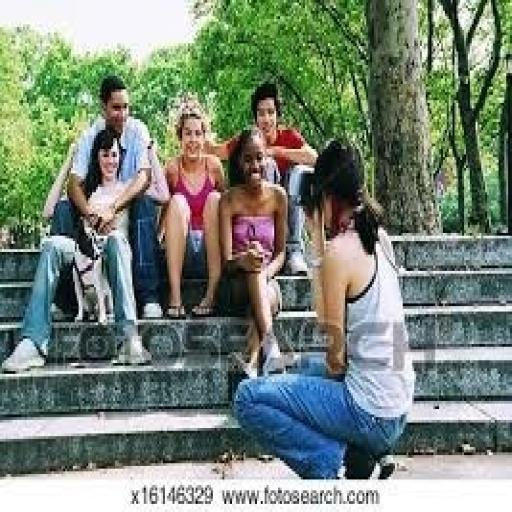sitting: (4, 68, 416, 477), (230, 136, 416, 480), (2, 73, 167, 374), (158, 98, 226, 320)
